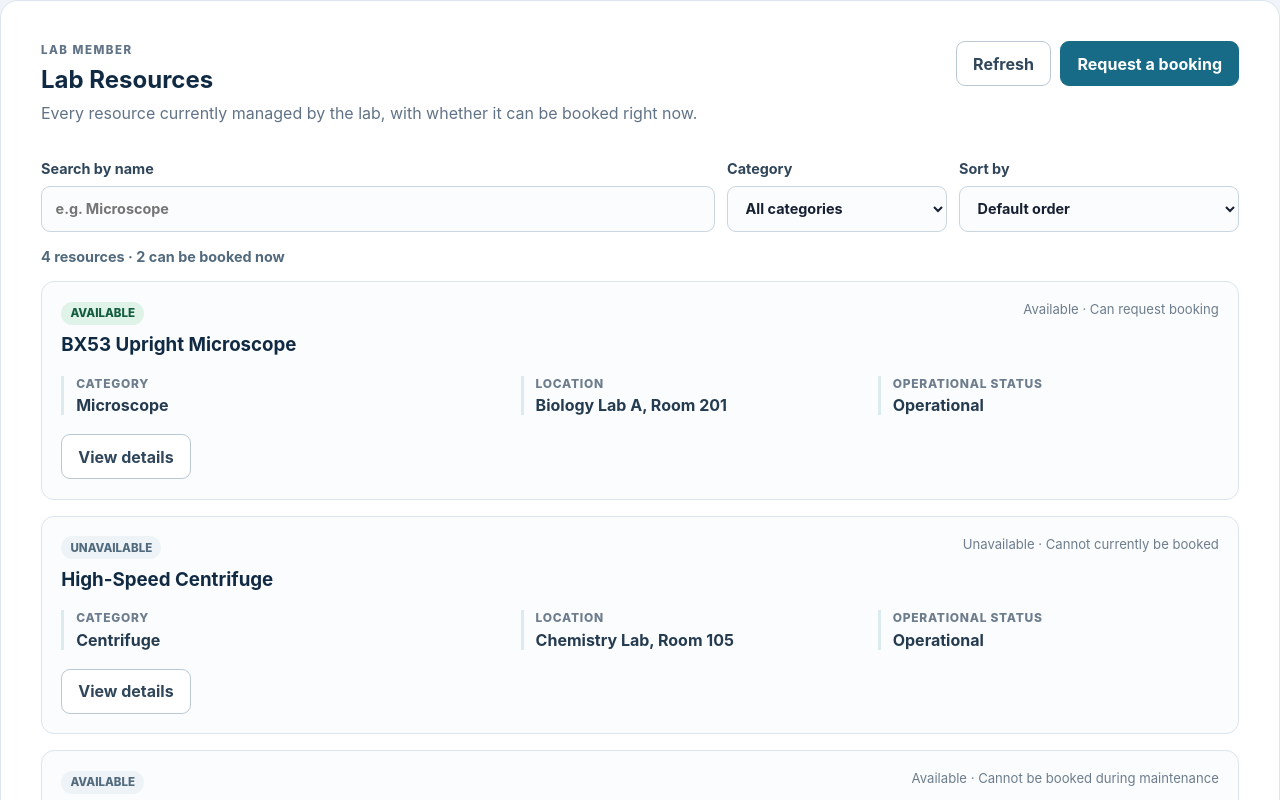
Test: US-2 search and filter lab resources › shows a no-match message and restores the full list when filters are cleared
This screenshot has width=1280, height=800.
Expected: the element "BX53 Upright Microscope" is shown, [41,281,1239,500]
Type "telescope" into the search field labelled "Search by name" at (378, 209), box [41,186,715,232]
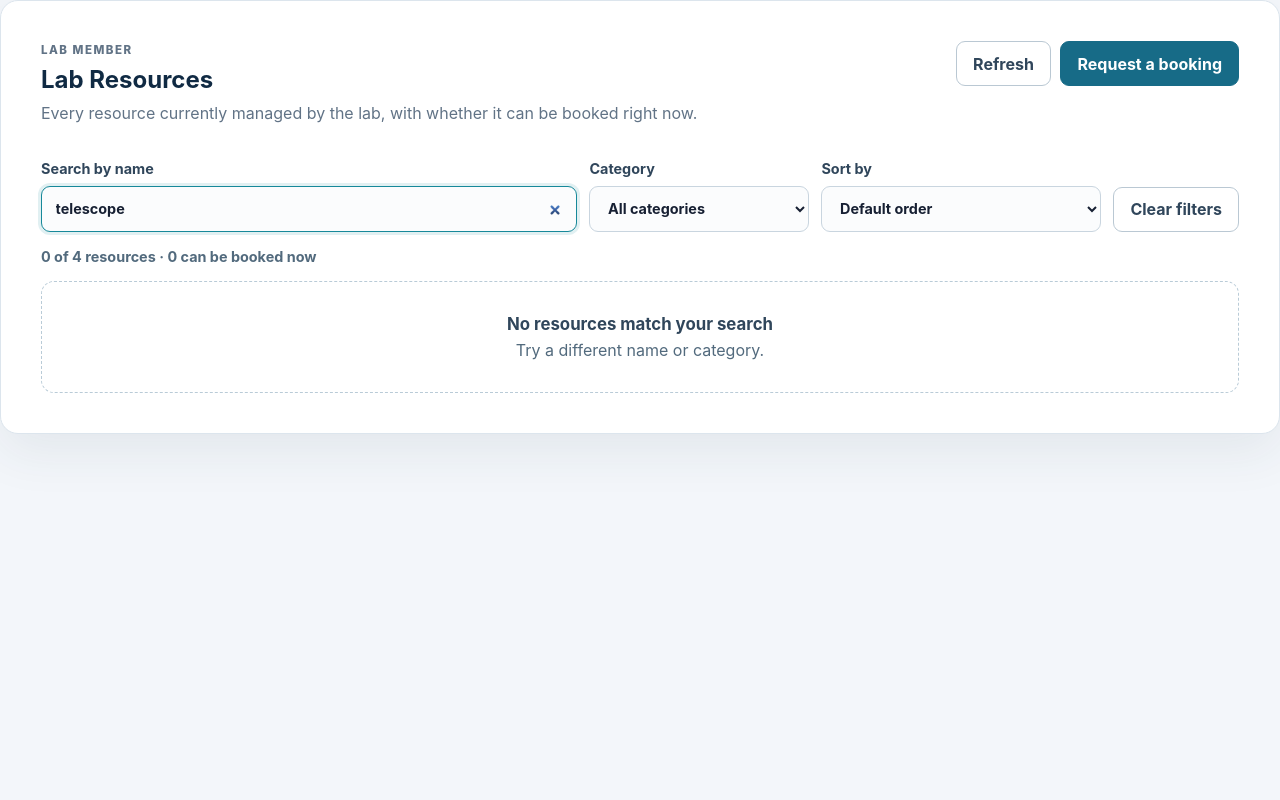
Now the text "No resources match your search" is shown, box [507,314,773,334]
Click the button "Clear filters" at (1176, 210), box [1113,187,1239,232]
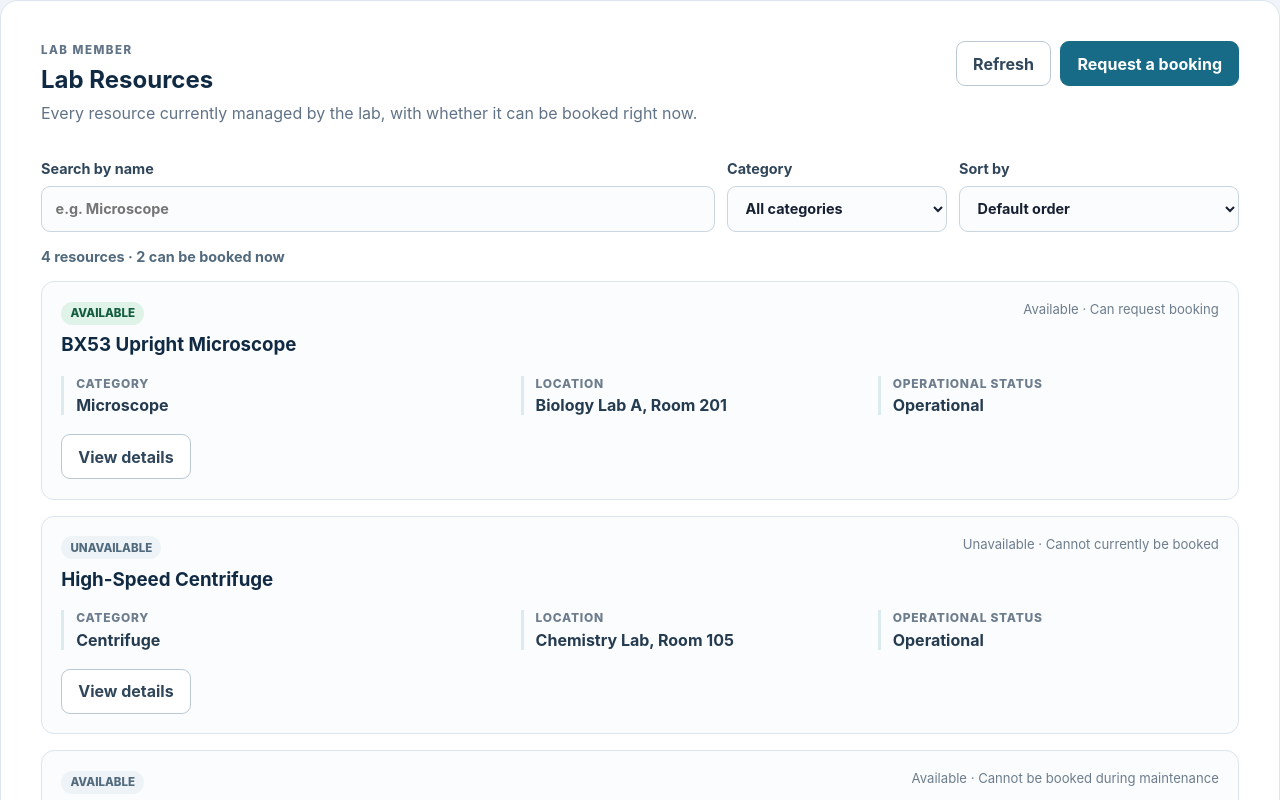
Expected: the dropdown labelled "Category" shows "All categories", [727,186,947,232]
Now the search field labelled "Search by name" is empty, box [41,186,715,232]
Now the text "4 resources · 2 can be booked now" is shown, box [41,248,285,265]
